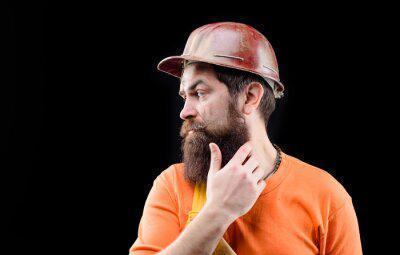helmet: (157, 22, 289, 91)
